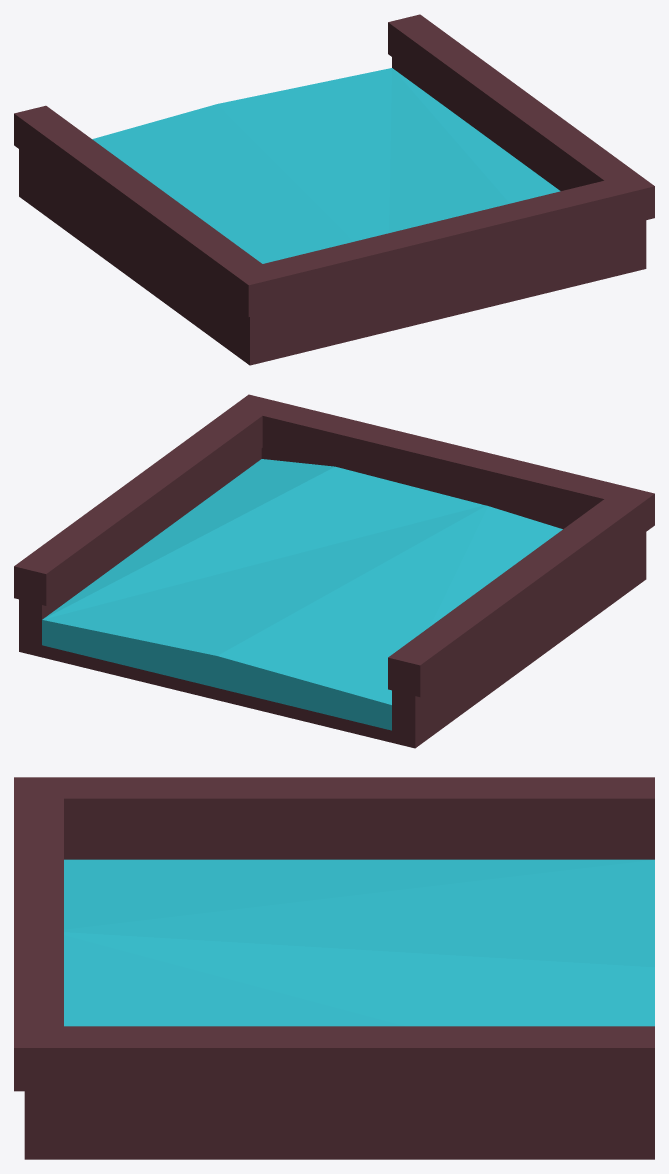
Rendered from empire-water-trough-end-empire.glb.
The picture shows the model from 3 angles, top to bottom: view 1: azimuth 30°, elevation 25°; view 2: azimuth 150°, elevation 25°; view 3: azimuth 270°, elevation 25°; orthographic projection. The views are drawn at different scales.
Visible parts, largest first — view 1: SM_Water_Trough_End_Empire; view 2: SM_Water_Trough_End_Empire; view 3: SM_Water_Trough_End_Empire.
Part boxes in pixels (bbox=[...]): SM_Water_Trough_End_Empire: bbox=[14, 14, 654, 365]; SM_Water_Trough_End_Empire: bbox=[14, 394, 654, 748]; SM_Water_Trough_End_Empire: bbox=[14, 777, 654, 1159].
Bounding box in the file's own units: 3 × 0.5942 × 3.
